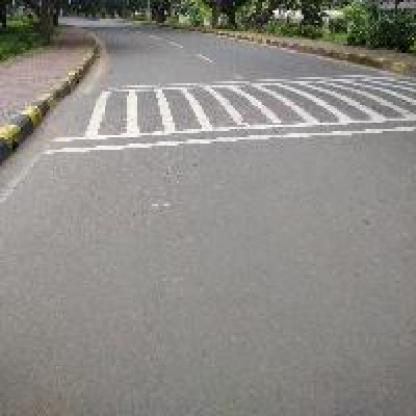Speed Bump: (46, 73, 414, 154)
